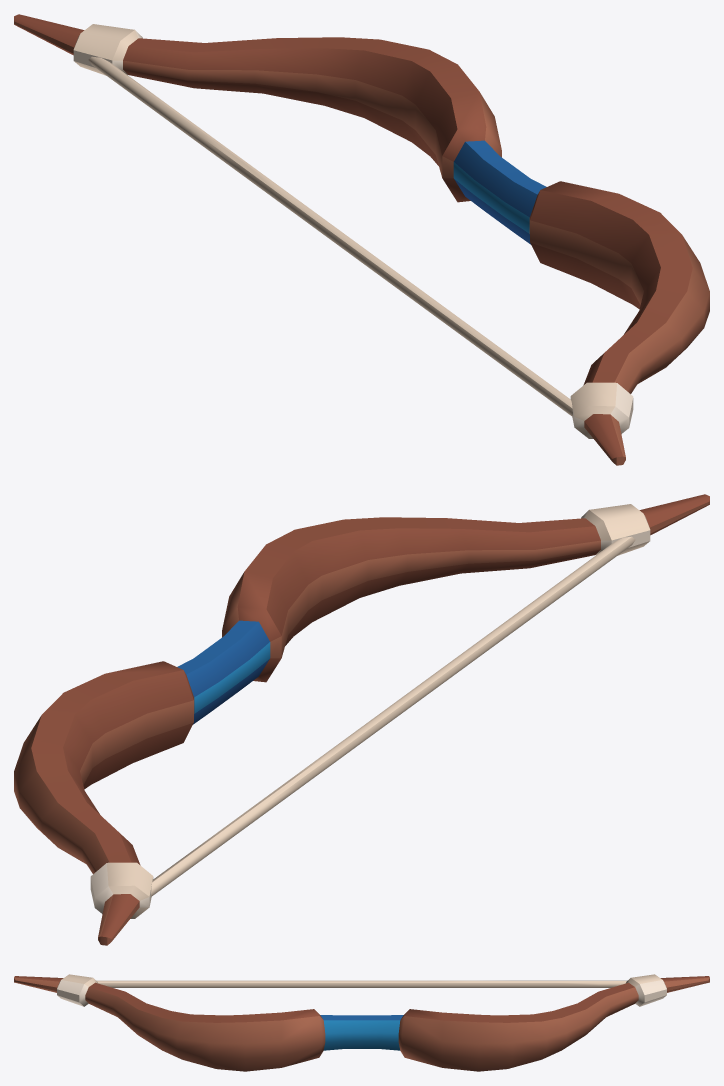
File: w-bow.glb
3 renders of one model, top to bottom at view 1: azimuth 30°, elevation 25°; view 2: azimuth 150°, elevation 25°; view 3: azimuth 270°, elevation 25°, orthographic. The views are drawn at different scales.
Visible parts, largest first — view 1: bow_withString; view 2: bow_withString; view 3: bow_withString.
Boxes of the visible parts, <box> form: bow_withString: <box>14,14,709,465</box>; bow_withString: <box>14,494,709,945</box>; bow_withString: <box>14,974,709,1071</box>.
Size of the model in its own units: 0.4944 by 0.1555 by 1.98.
Materials: 1 (1 with a texture image).
